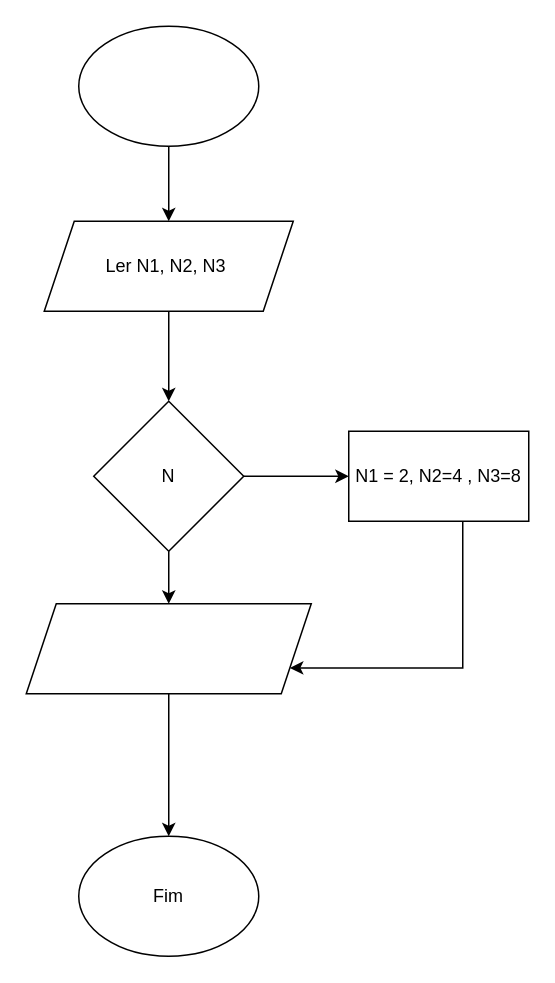
The diagram is 555 pixels wide and 983 high, and some of its shapes have lost their labels. The shapes that lost their labels are listed below. From the top down, each one's box as (x1, y1, x2, y2) in pixels, then its label:
(77, 25, 259, 146): Início
(25, 602, 311, 694): Escrever n "M aior"
